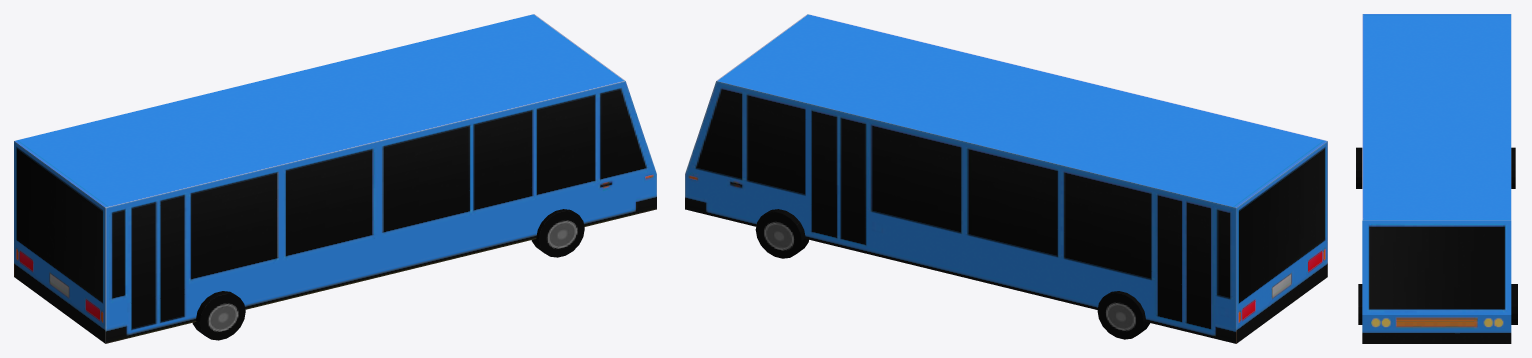
The model's file is bus.obj.
The picture shows the model from 3 angles, left to right: view 1: azimuth 30°, elevation 25°; view 2: azimuth 150°, elevation 25°; view 3: azimuth 270°, elevation 25°; orthographic projection. The views are drawn at different scales.
Visible parts, largest first — view 1: Car_12; view 2: Car_12; view 3: Car_12.
Part boxes in pixels (x1,y1,x2,y2): Car_12: (14,14,656,343); Car_12: (685,14,1327,343); Car_12: (1356,14,1517,343).
Size of the model in its own units: 13.06 by 3.57 by 4.08.
1 material, 1 textured.
